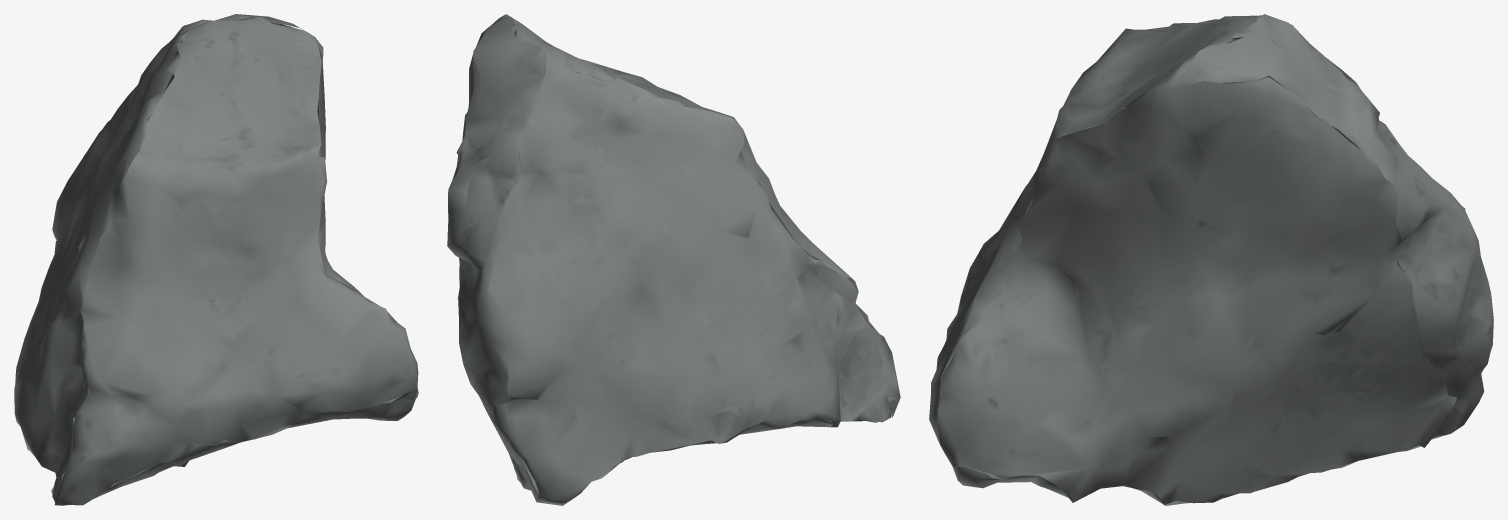
Rendered from moon-boulder.glb.
3 renders of one model, left to right at view 1: azimuth 30°, elevation 25°; view 2: azimuth 150°, elevation 25°; view 3: azimuth 270°, elevation 25°, orthographic. The views are drawn at different scales.
Parts seen in each view (by area): view 1: moon-boulder; view 2: moon-boulder; view 3: moon-boulder.
Boxes of the visible parts, <box> form: moon-boulder: <box>14,14,418,505</box>; moon-boulder: <box>447,14,900,505</box>; moon-boulder: <box>929,14,1493,505</box>.
Bounding box in the file's own units: 2.54 × 2.6 × 2.87.
1 material, 1 textured.
